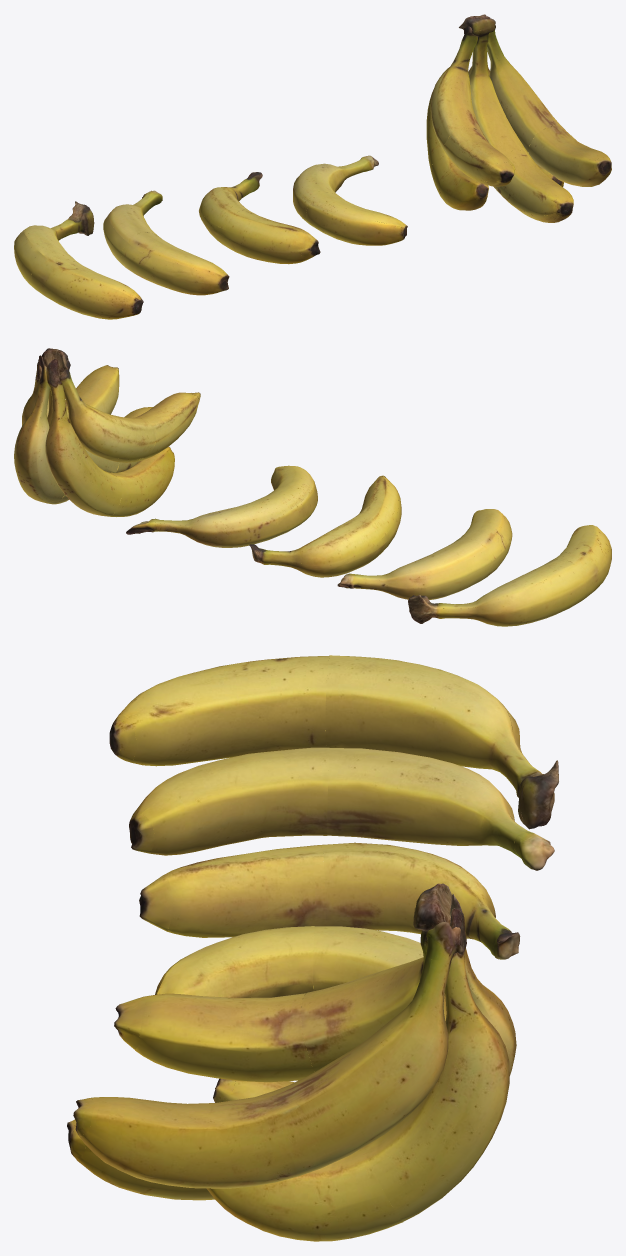
File: bananas.gltf
The picture shows the model from 3 angles, top to bottom: view 1: azimuth 30°, elevation 25°; view 2: azimuth 150°, elevation 25°; view 3: azimuth 270°, elevation 25°; orthographic projection. The views are drawn at different scales.
Parts seen in each view (by area): view 1: bananas_bunch, bananas_d, bananas_c, bananas_a, bananas_b; view 2: bananas_bunch, bananas_d, bananas_c, bananas_a, bananas_b; view 3: bananas_bunch, bananas_d, bananas_c, bananas_b, bananas_a.
Part boxes in pixels (box(x1,y1,x2,y2)): bananas_bunch: box(426, 14, 611, 222); bananas_d: box(14, 201, 143, 319); bananas_c: box(103, 190, 229, 295); bananas_a: box(293, 155, 407, 245); bananas_b: box(199, 172, 320, 264); bananas_bunch: box(14, 348, 200, 516); bananas_d: box(408, 525, 611, 626); bananas_c: box(337, 509, 512, 599); bananas_a: box(126, 465, 317, 547); bananas_b: box(249, 475, 401, 577); bananas_bunch: box(67, 883, 516, 1241); bananas_d: box(109, 655, 558, 829); bananas_c: box(129, 747, 554, 870); bananas_b: box(139, 842, 520, 959); bananas_a: box(155, 926, 423, 997).
Size of the model in its own units: 0.6001 by 0.1789 by 0.244.
1 material, 1 textured.
